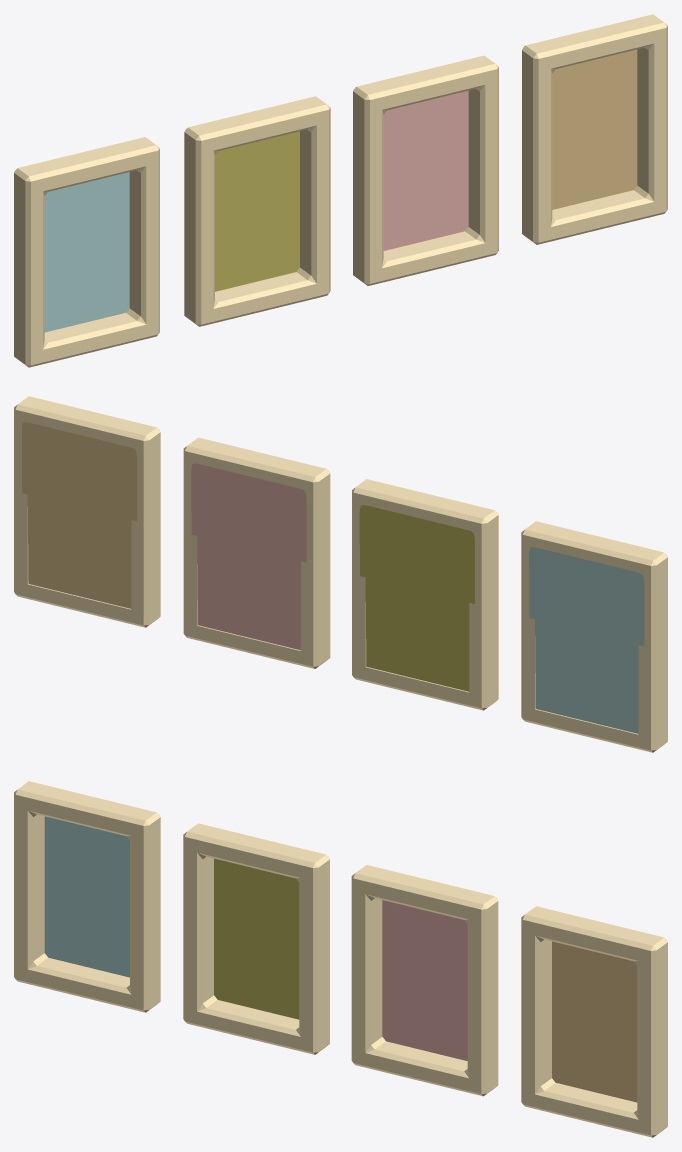
Rendered from portal.fbx.
3 views of the same model, one above another, from view 1: azimuth 30°, elevation 25°; view 2: azimuth 150°, elevation 25°; view 3: azimuth 330°, elevation 25° (orthographic).
Parts seen in each view (by area): view 1: Yellow, Blue, Yellow.002, Yellow.001, door, door.003, door.002, door.001; view 2: door, door.001, door.002, door.003, Yellow.001, Blue, Yellow.002, Yellow; view 3: Yellow.001, Blue, Yellow.002, Yellow, door, door.003, door.001, door.002.
Part boxes in pixels (x1,y1,x2,y2): Yellow: [184, 96, 330, 326]; Blue: [14, 137, 159, 367]; Yellow.002: [522, 14, 667, 244]; Yellow.001: [353, 55, 498, 285]; door: [44, 172, 129, 332]; door.003: [552, 49, 637, 209]; door.002: [383, 90, 468, 250]; door.001: [215, 131, 299, 291]; door: [529, 547, 644, 733]; door.001: [359, 505, 474, 691]; door.002: [191, 463, 306, 649]; door.003: [22, 422, 137, 608]; Yellow.001: [183, 437, 330, 668]; Blue: [521, 521, 667, 752]; Yellow.002: [14, 396, 160, 627]; Yellow: [352, 479, 498, 710]; Yellow.001: [351, 865, 498, 1096]; Blue: [14, 781, 160, 1012]; Yellow.002: [521, 906, 667, 1137]; Yellow: [183, 823, 329, 1054]; door: [44, 816, 129, 977]; door.003: [552, 941, 637, 1102]; door.001: [214, 858, 299, 1019]; door.002: [382, 900, 467, 1060].
Size of the model in its own units: 1796 by 512 by 82.07.
